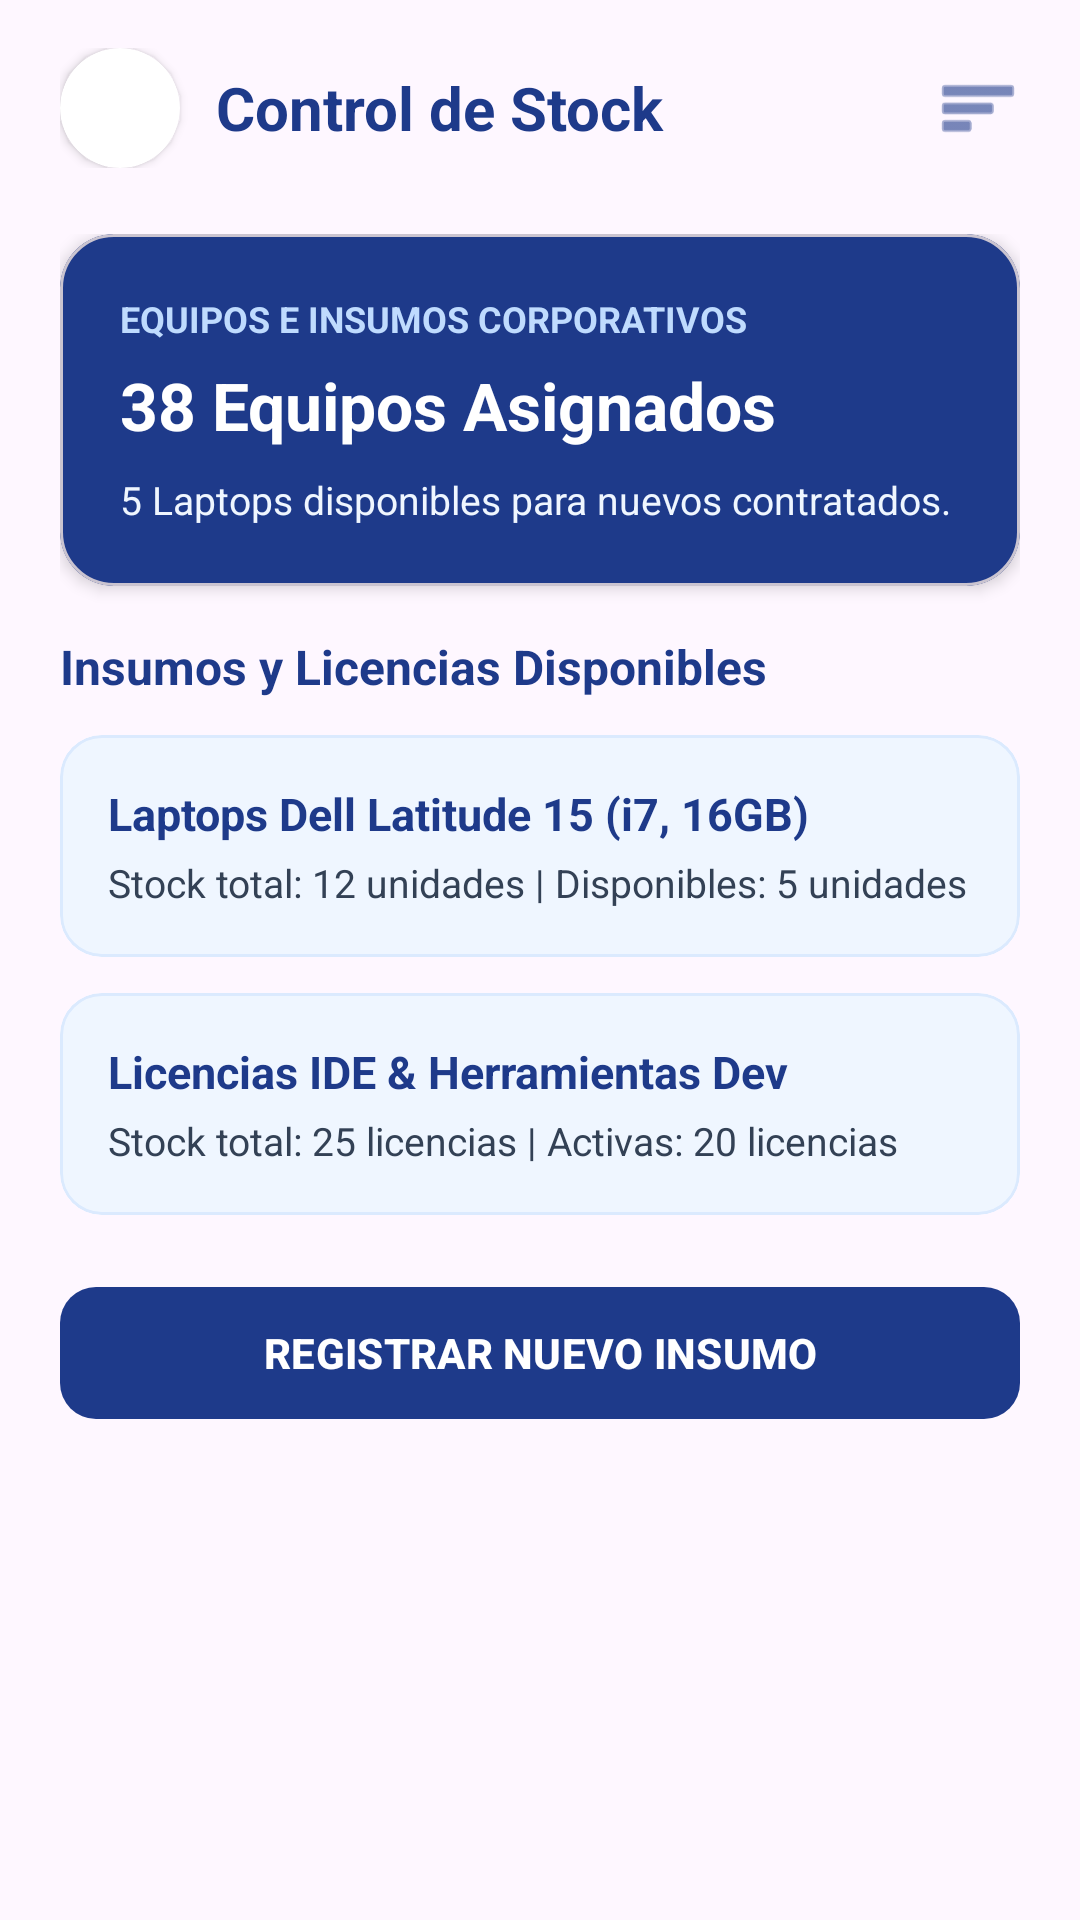

Icon bounding boxes for this 1080x1920 phone screenshot, format (x1, y1, x2, y2):
Menú: (942, 85, 1014, 132)
